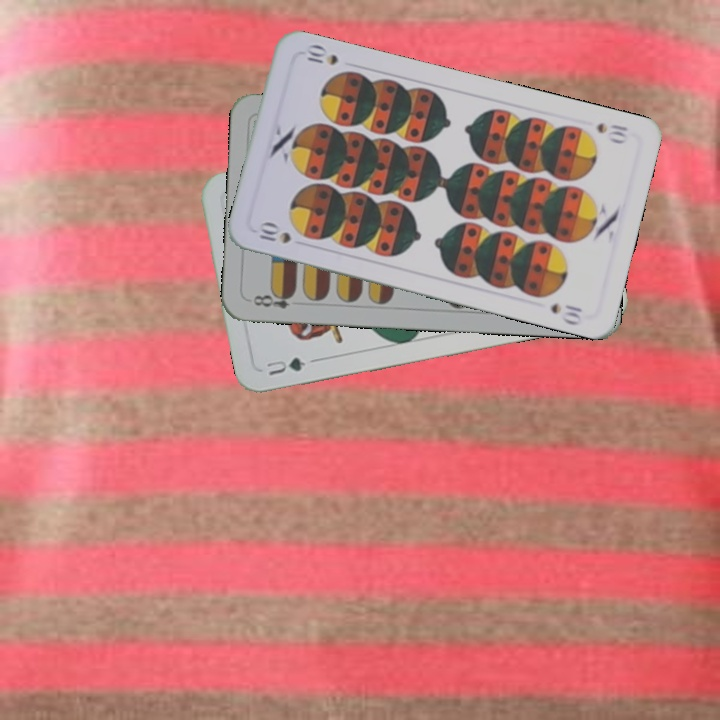E8: (249, 288, 297, 311)
GU: (261, 353, 308, 379)
S10: (592, 118, 631, 146), (255, 220, 294, 246)
